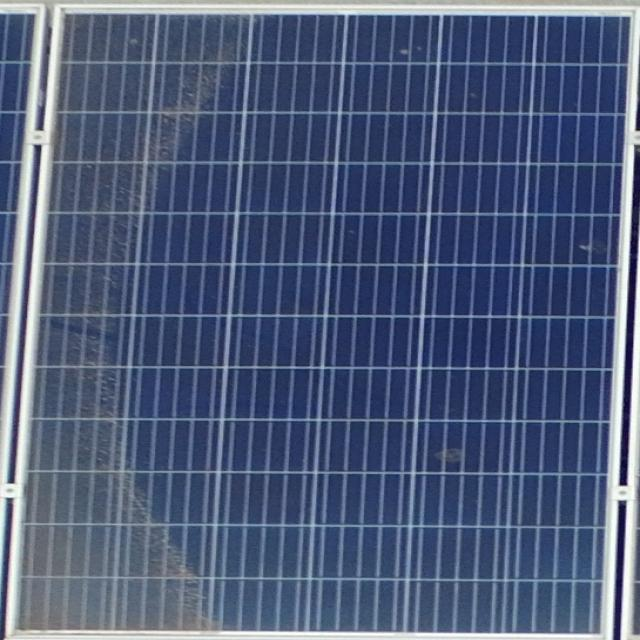Dust: (45, 10, 230, 636)
bird-droppings: (388, 41, 422, 59), (574, 236, 606, 255), (434, 448, 470, 461), (129, 31, 144, 51)
